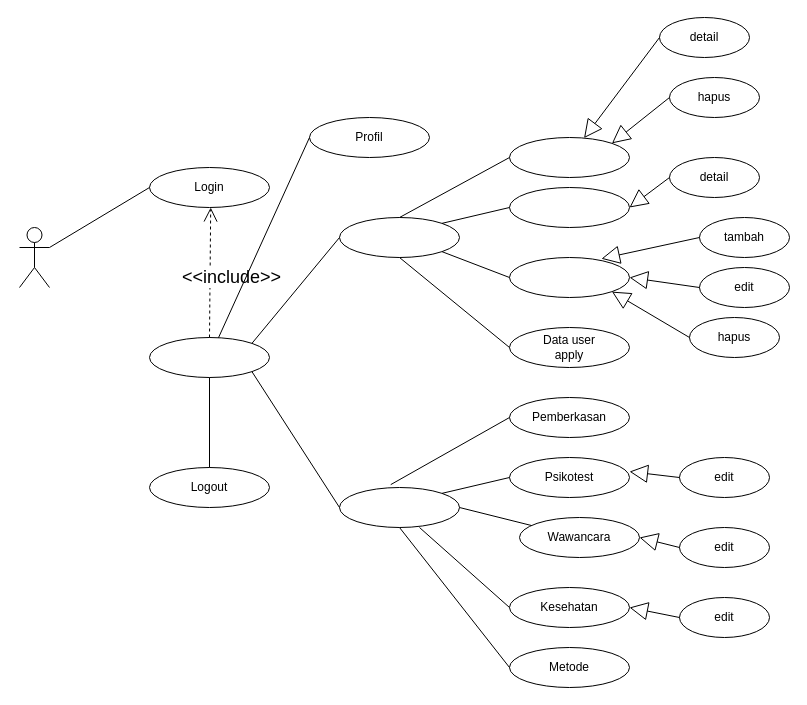
This 807x705 diagram has some shape labels left out. Each missing label, with the centre of its shape:
Admin: the point at 34,257
Data alumni: the point at 569,157
Data user pendaftar: the point at 569,207
Loker: the point at 569,277
Manajemen: the point at 399,237
Menu: the point at 209,357
Proses tahap: the point at 399,507
